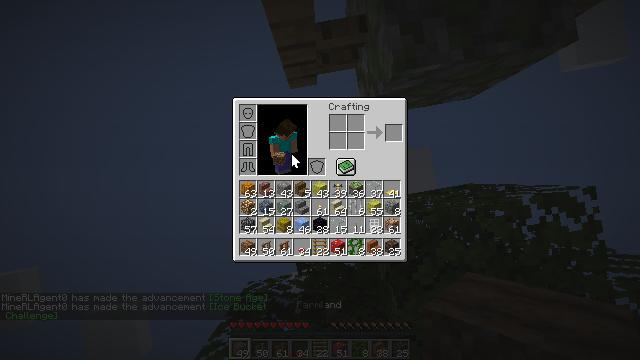cursor: (153, 291, 169, 301)
